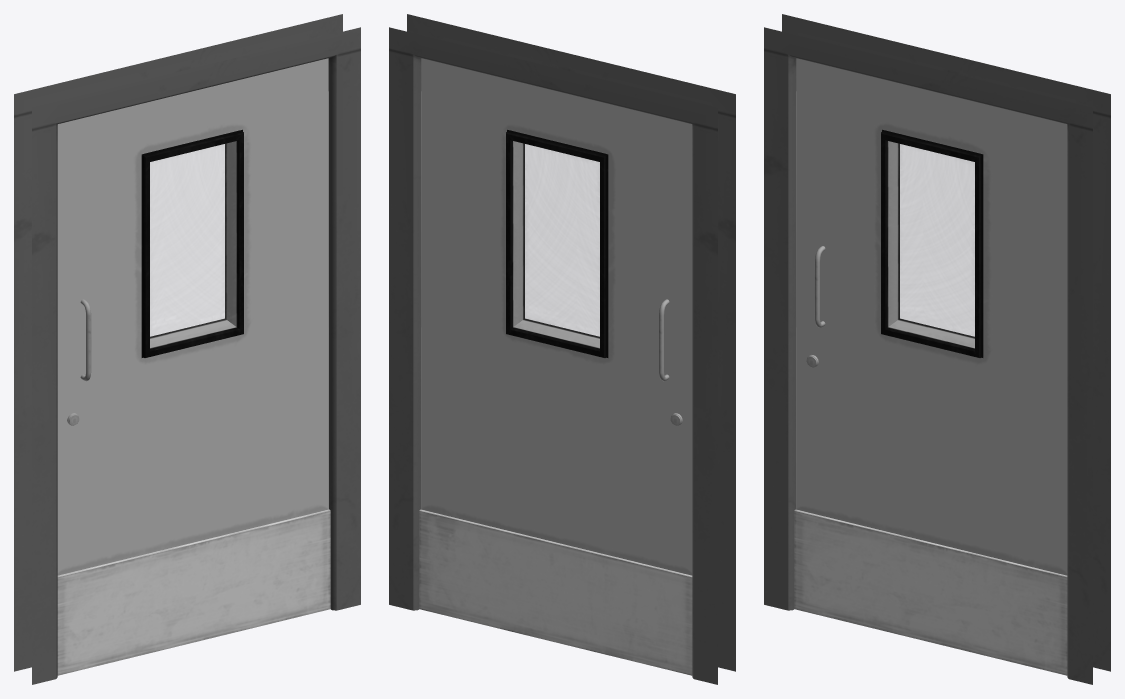
File: metal_door_2.glb
3 renders of one model, left to right at view 1: azimuth 30°, elevation 25°; view 2: azimuth 150°, elevation 25°; view 3: azimuth 330°, elevation 25°, orthographic.
Parts seen in each view (by area): view 1: Door_Low, Frame_Low, Glass_Low; view 2: Door_Low, Frame_Low, Glass_Low; view 3: Door_Low, Frame_Low, Glass_Low.
Part boxes in pixels (left/top/right/bottom): Door_Low: left=57, top=58, right=330, bottom=675; Frame_Low: left=14, top=14, right=360, bottom=684; Glass_Low: left=150, top=141, right=235, bottom=347; Door_Low: left=419, top=58, right=692, bottom=675; Frame_Low: left=389, top=14, right=735, bottom=684; Glass_Low: left=514, top=141, right=599, bottom=347; Door_Low: left=794, top=58, right=1067, bottom=675; Frame_Low: left=764, top=14, right=1110, bottom=684; Glass_Low: left=889, top=141, right=974, bottom=347.
Size of the model in its own units: 122 by 204 by 15.27.
1 material, 1 textured.
